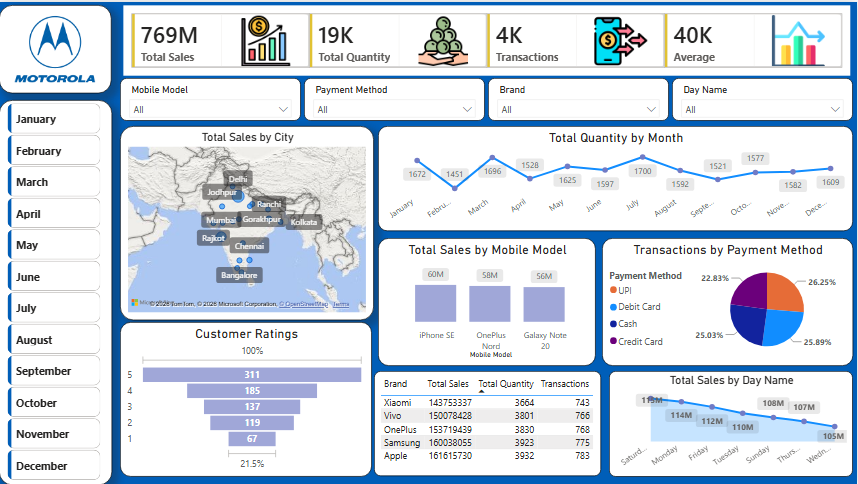

The dashboard page shown, as its layout file describes it:
{"tool":"powerbi","page":{"name":"Page 1","canvas":[1280,720],"ordinal":0},"visuals":[{"type":"shape","box":[0,4.3,168.1,131.9],"z":0},{"type":"image","box":[10.1,10.1,146.4,120.3],"z":1000},{"type":"shape","box":[0,146.3,168.7,574.6],"z":2000},{"type":"advancedSlicerVisual","fields":{"Values":["Sales_Data.Date.Variation.Date Hierarchy.Month"]},"box":[7.2,146.4,149.3,573.9],"z":3000},{"type":"cardVisual","fields":{"Data":["Sales_Data.Total_Sales","Sales_Data.Total_Quantity","Sales_Data.Transactions","Sales_Data.Average"]},"box":[181.2,0,1098.6,115.9],"z":4000},{"type":"map","fields":{"Category":["Sales_Data.City"],"Size":["Sales_Data.Total_Sales"]},"box":[180.6,185.1,379.1,289.6],"z":5000},{"type":"lineChart","fields":{"Category":["Sales_Data.Date.Variation.Date Hierarchy.Month","Sales_Data.Date.Variation.Date Hierarchy.Day"],"Y":["Sales_Data.Total Quantity"]},"box":[565.7,185.1,709,156.7],"z":6000},{"type":"clusteredColumnChart","fields":{"Y":["Sales_Data.Total Sales"],"Category":["Sales_Data.Mobile Model"]},"box":[565.7,352.2,325.4,191],"z":7000},{"type":"pieChart","fields":{"Category":["Sales_Data.Payment Method"],"Y":["Sales_Data.Transactions"]},"box":[900,352.2,374.6,191],"z":8000},{"type":"funnel","title":"Customer Ratings","fields":{"Category":["Sales_Data.Customer Ratings"],"Y":["CountNonNull(Sales_Data.Customer Ratings)"]},"box":[180.6,477.6,376.1,231.3],"z":9000},{"type":"areaChart","fields":{"Category":["Sales_Data.Day Name"],"Y":["Sales_Data.Total Sales"]},"box":[910.4,550.7,364.2,158.2],"z":10000},{"type":"slicer","fields":{"Values":["Sales_Data.Mobile Model"]},"box":[180.6,113.4,270.1,64.2],"z":11000},{"type":"slicer","fields":{"Values":["Sales_Data.Payment Method"]},"box":[455.2,113.4,270.1,64.2],"z":12000},{"type":"slicer","fields":{"Values":["Sales_Data.Brand"]},"box":[729.9,113.4,270.1,64.2],"z":13000},{"type":"slicer","fields":{"Values":["Sales_Data.Day Name"]},"box":[1004.5,113.4,270.1,64.2],"z":14000},{"type":"tableEx","fields":{"Values":["Sales_Data.Brand","Sales_Data.Total Sales","Sales_Data.Total Quantity","Sales_Data.Transactions"]},"box":[559.7,550.7,338.8,156.7],"z":15000}]}

Visuals, with their boxes in screenshot pixels (x1, y1, x2, y2), scaled from the page's 1280x720 canvas onto the 858x484 screenshot:
shape: pyautogui.locateOnScreen(0, 3, 113, 92)
image: pyautogui.locateOnScreen(7, 7, 105, 88)
shape: pyautogui.locateOnScreen(0, 98, 113, 483)
advancedSlicerVisual - Sales_Data.Date.Variation.Date Hierarchy.Month: pyautogui.locateOnScreen(5, 98, 105, 483)
cardVisual - Sales_Data.Total_Sales x Sales_Data.Total_Quantity: pyautogui.locateOnScreen(121, 0, 857, 78)
map - Sales_Data.City x Sales_Data.Total_Sales: pyautogui.locateOnScreen(121, 124, 375, 319)
lineChart - Sales_Data.Date.Variation.Date Hierarchy.Month x Sales_Data.Date.Variation.Date Hierarchy.Day: pyautogui.locateOnScreen(379, 124, 854, 230)
clusteredColumnChart - Sales_Data.Total Sales x Sales_Data.Mobile Model: pyautogui.locateOnScreen(379, 237, 597, 365)
pieChart - Sales_Data.Payment Method x Sales_Data.Transactions: pyautogui.locateOnScreen(603, 237, 854, 365)
"Customer Ratings" funnel: pyautogui.locateOnScreen(121, 321, 373, 477)
areaChart - Sales_Data.Day Name x Sales_Data.Total Sales: pyautogui.locateOnScreen(610, 370, 854, 477)
slicer - Sales_Data.Mobile Model: pyautogui.locateOnScreen(121, 76, 302, 119)
slicer - Sales_Data.Payment Method: pyautogui.locateOnScreen(305, 76, 486, 119)
slicer - Sales_Data.Brand: pyautogui.locateOnScreen(489, 76, 670, 119)
slicer - Sales_Data.Day Name: pyautogui.locateOnScreen(673, 76, 854, 119)
tableEx - Sales_Data.Brand x Sales_Data.Total Sales: pyautogui.locateOnScreen(375, 370, 602, 476)
